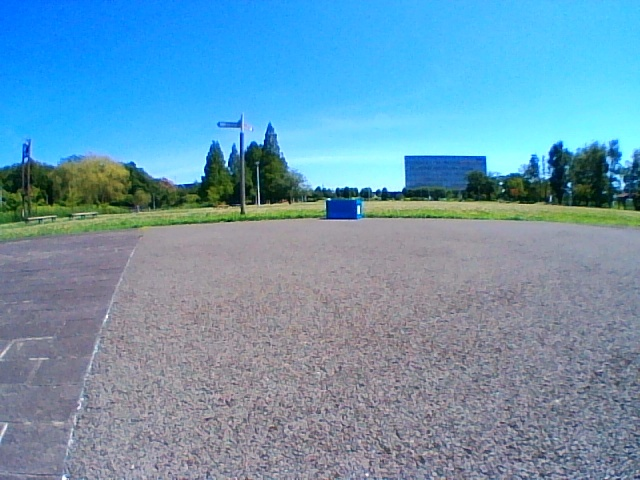blue_box: (326, 198, 361, 220)
tag: (357, 203, 360, 213)
